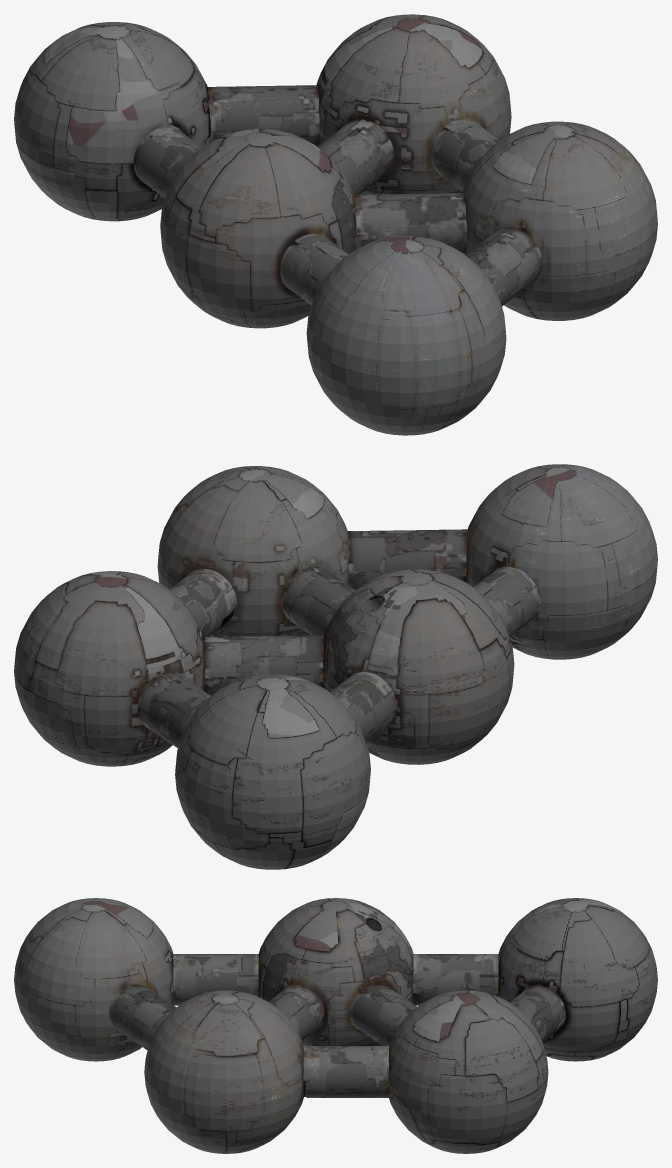
File: tgef_01_starhold.obj
3 renders of one model, top to bottom at view 1: azimuth 30°, elevation 25°; view 2: azimuth 150°, elevation 25°; view 3: azimuth 270°, elevation 25°, orthographic. The views are drawn at different scales.
Visible parts, largest first — view 1: Cylinder.002; view 2: Cylinder.002; view 3: Cylinder.002.
Boxes of the visible parts, left/top/right/bottom form: Cylinder.002: left=14, top=14, right=657, bottom=435; Cylinder.002: left=14, top=464, right=657, bottom=869; Cylinder.002: left=14, top=898, right=657, bottom=1153.
Size of the model in its own units: 0.000461 by 0.000197 by 0.000775.
